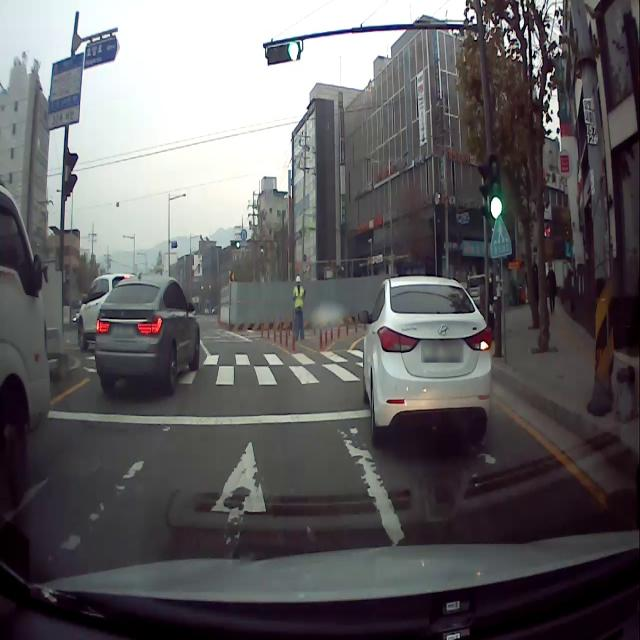Green Light: (286, 39, 300, 61)
